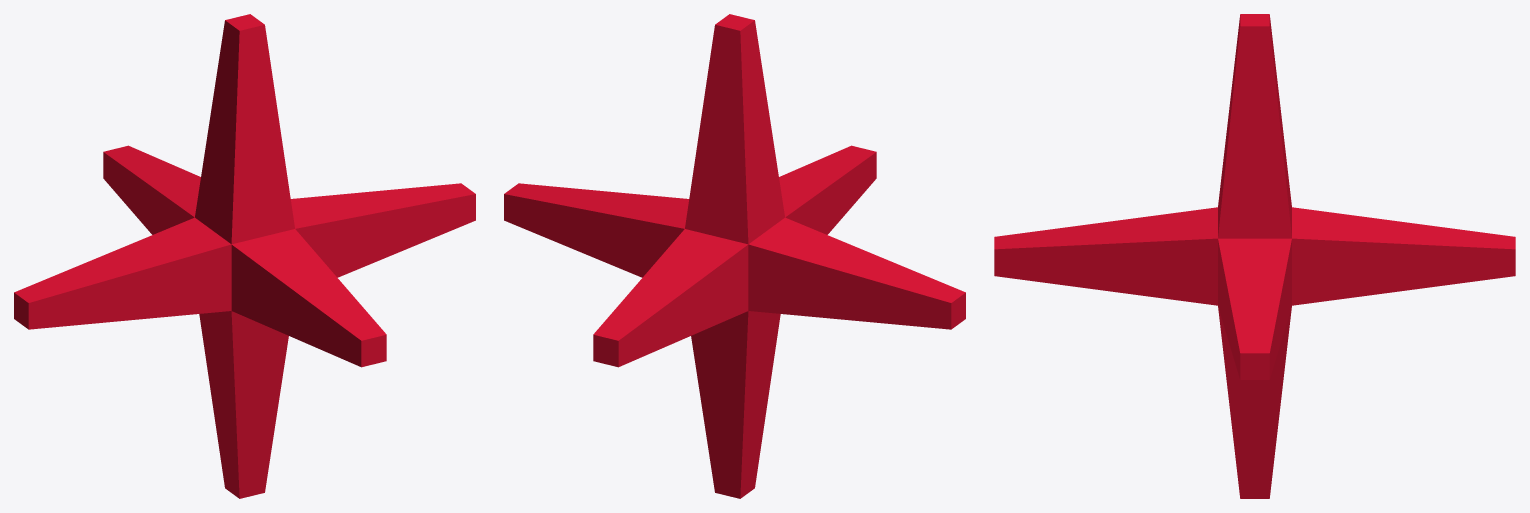
File: m_Gizmo.fbx
3 views of the same model, side by side, from view 1: azimuth 30°, elevation 25°; view 2: azimuth 150°, elevation 25°; view 3: azimuth 270°, elevation 25° (orthographic).
Parts seen in each view (by area): view 1: Gizmo; view 2: Gizmo; view 3: Gizmo.
Boxes of the visible parts, x1,y1,x2,y2 form: Gizmo: (14,14,475,498); Gizmo: (504,14,965,498); Gizmo: (994,14,1515,498).
Size of the model in its own units: 24.46 by 24.46 by 24.46.
